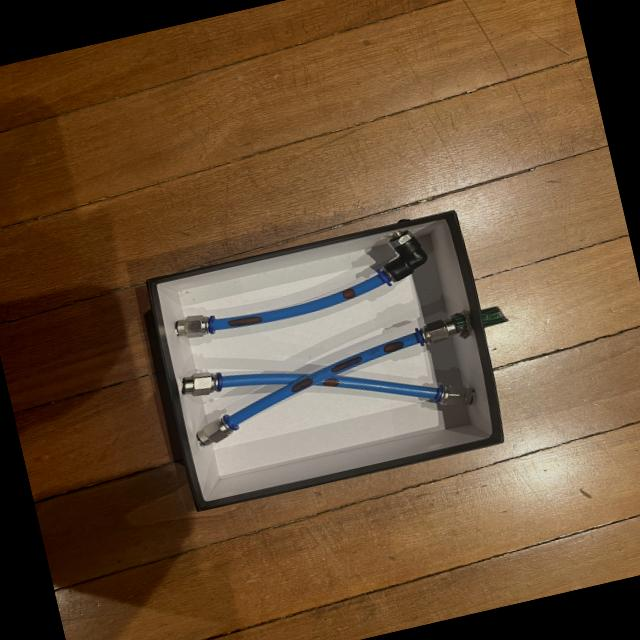hose_damage: (328, 355, 363, 373), (288, 374, 318, 393), (225, 314, 265, 328), (380, 338, 406, 355), (341, 286, 357, 300), (320, 377, 342, 387)
